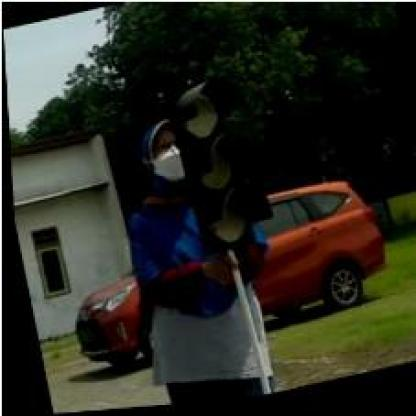yellow: (157, 75, 275, 262)
